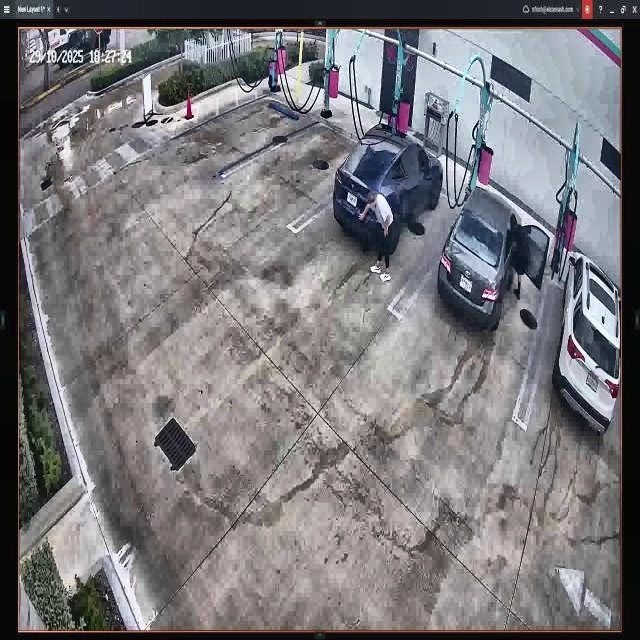Car: (439, 187, 549, 318), (332, 124, 444, 246)
